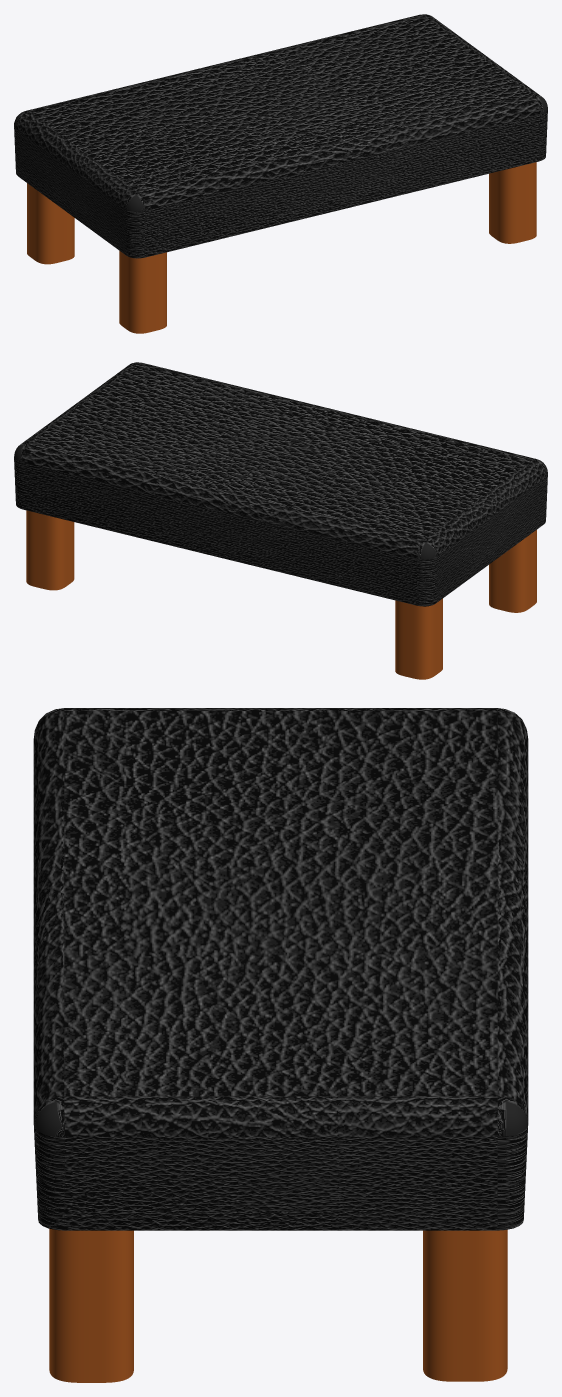
Rendered from footstool.obj.
3 views of the same model, one above another, from view 1: azimuth 30°, elevation 25°; view 2: azimuth 150°, elevation 25°; view 3: azimuth 270°, elevation 25° (orthographic). The views are drawn at different scales.
Parts seen in each view (by area): view 1: Box001, Box004, Box003, Box005; view 2: Box001, Box005, Box002, Box004; view 3: Box001, Box003, Box002.
Boxes of the visible parts, x1,y1,x2,y2 form: Box001: [14, 14, 547, 258]; Box004: [119, 251, 166, 333]; Box003: [489, 162, 536, 243]; Box005: [27, 183, 74, 264]; Box001: [14, 362, 547, 606]; Box005: [395, 598, 442, 679]; Box002: [26, 510, 74, 590]; Box004: [489, 530, 536, 612]; Box001: [33, 708, 528, 1230]; Box003: [49, 1228, 133, 1382]; Box002: [423, 1229, 507, 1381].
Size of the model in its own units: 61.92 by 19.76 by 31.48.
